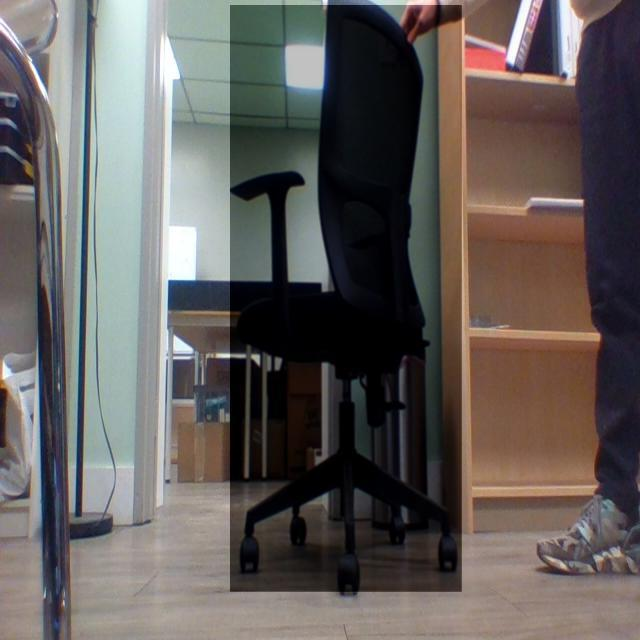chair: (230, 5, 462, 593)
